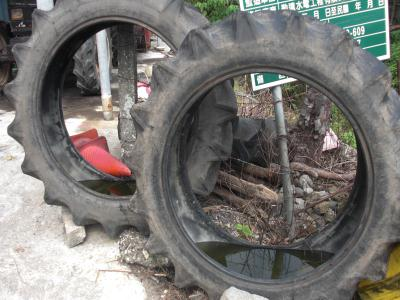tire: (118, 12, 398, 299), (3, 1, 240, 242)
